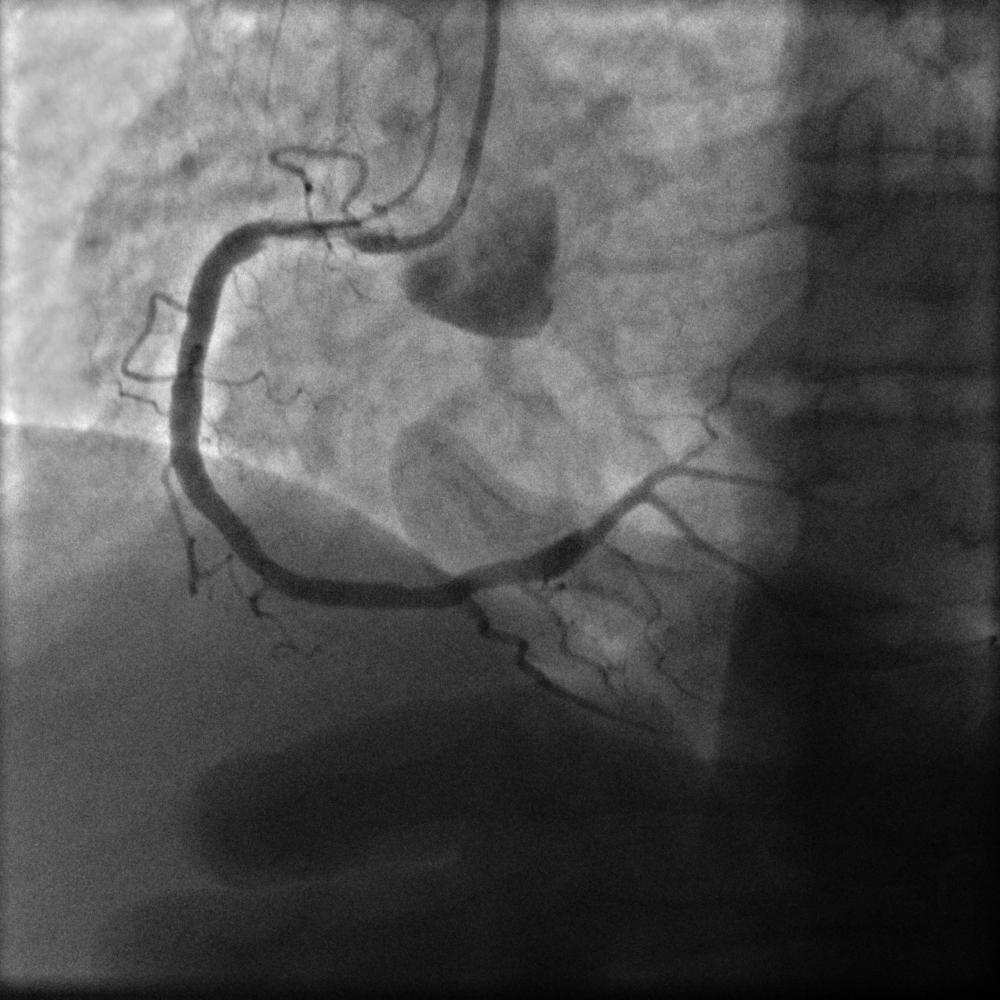Stenosis: (258, 208, 376, 253)
